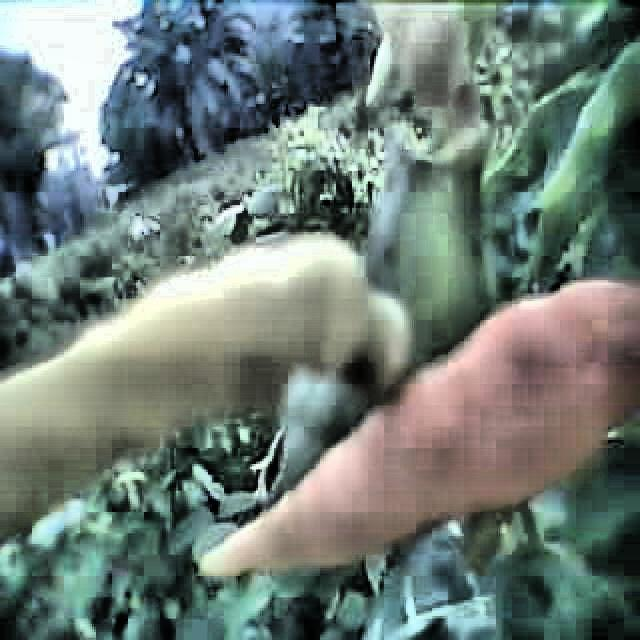Cabai: (433, 263, 638, 518)
